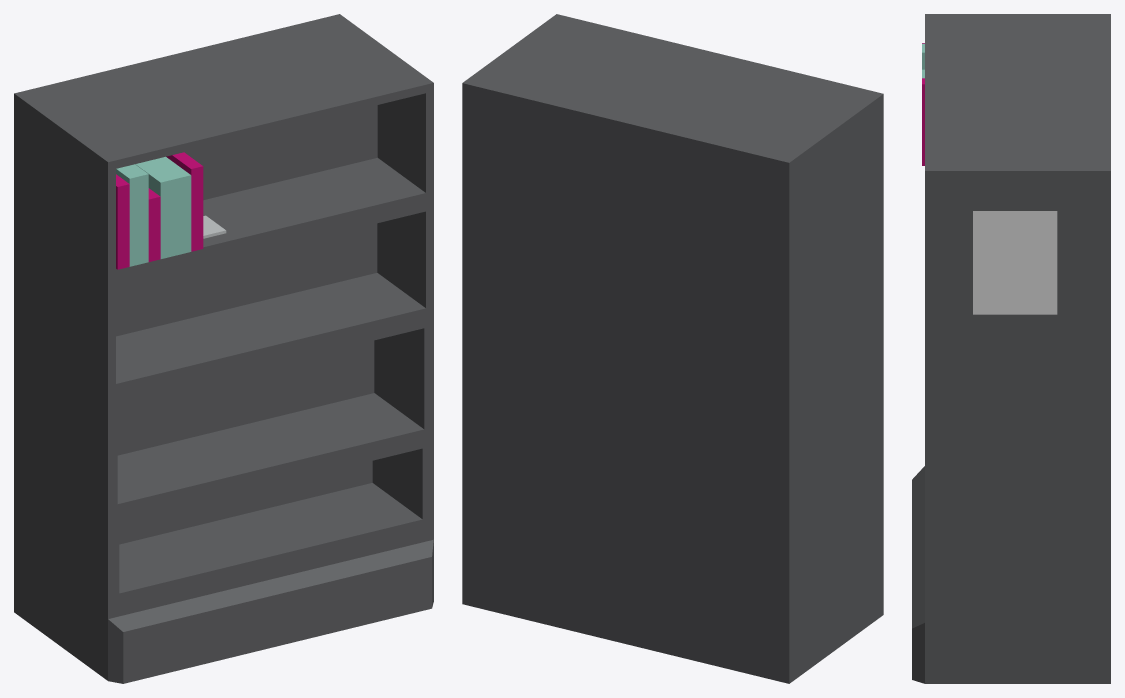
Rendered from bookshelf.fbx.
3 renders of one model, left to right at view 1: azimuth 30°, elevation 25°; view 2: azimuth 150°, elevation 25°; view 3: azimuth 270°, elevation 25°, orthographic.
Visible parts, largest first — view 1: pCube1, pCube5, pCube3, pCube6, pCube2, pCube4; view 2: pCube1; view 3: pCube1.
Boxes of the visible parts, box(x1,y1,x2,y2) form: pCube1: box(14, 14, 433, 683); pCube5: box(135, 156, 191, 258); pCube3: box(116, 164, 148, 266); pCube6: box(166, 152, 203, 251); pCube2: box(116, 174, 129, 269); pCube4: box(148, 188, 160, 261); pCube1: box(462, 14, 883, 683); pCube1: box(912, 14, 1110, 683).
Bounding box in the file's own units: 4 × 6.09 × 2.14.
